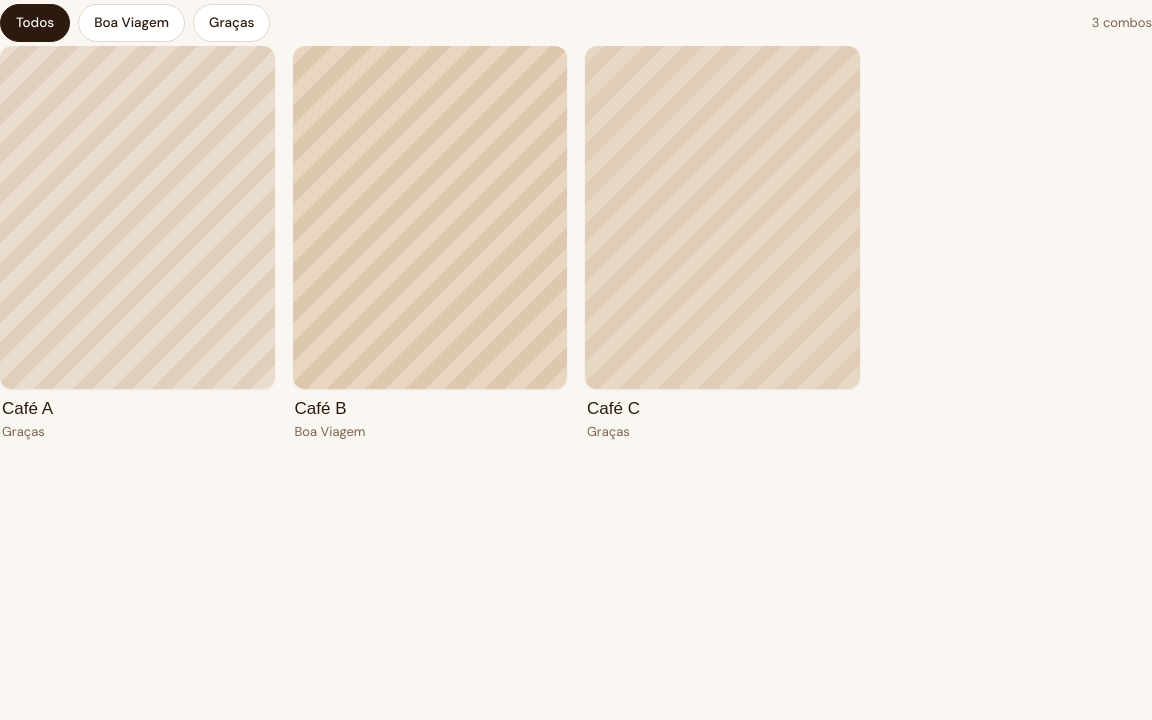
Scenario: FestivalGrade › a arte ampliada passa os combos pelas setas, com volta nas pontas, e devolve o foco ao combo à vista
Step 1. Click the button "Café B Boa Viagem" → (430, 244), box x1=292 y1=46 x2=567 y2=441
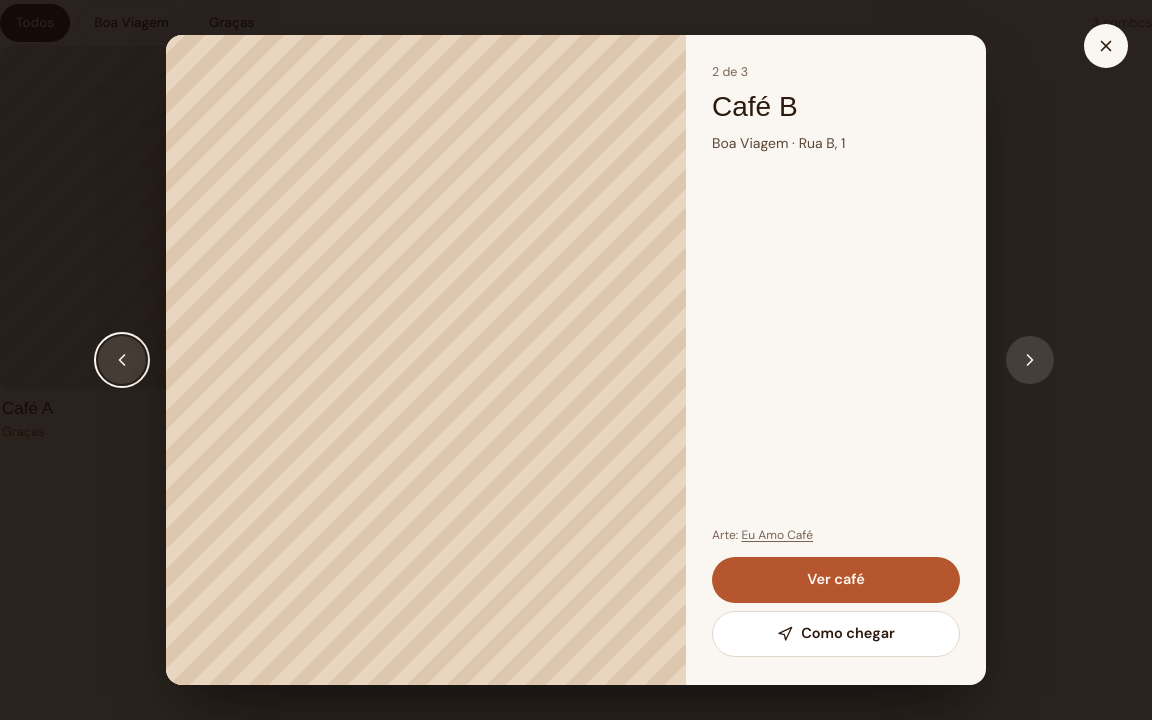
Step 2. Click the button named "Próximo combo" → (1030, 360), box x1=1006 y1=336 x2=1054 y2=384
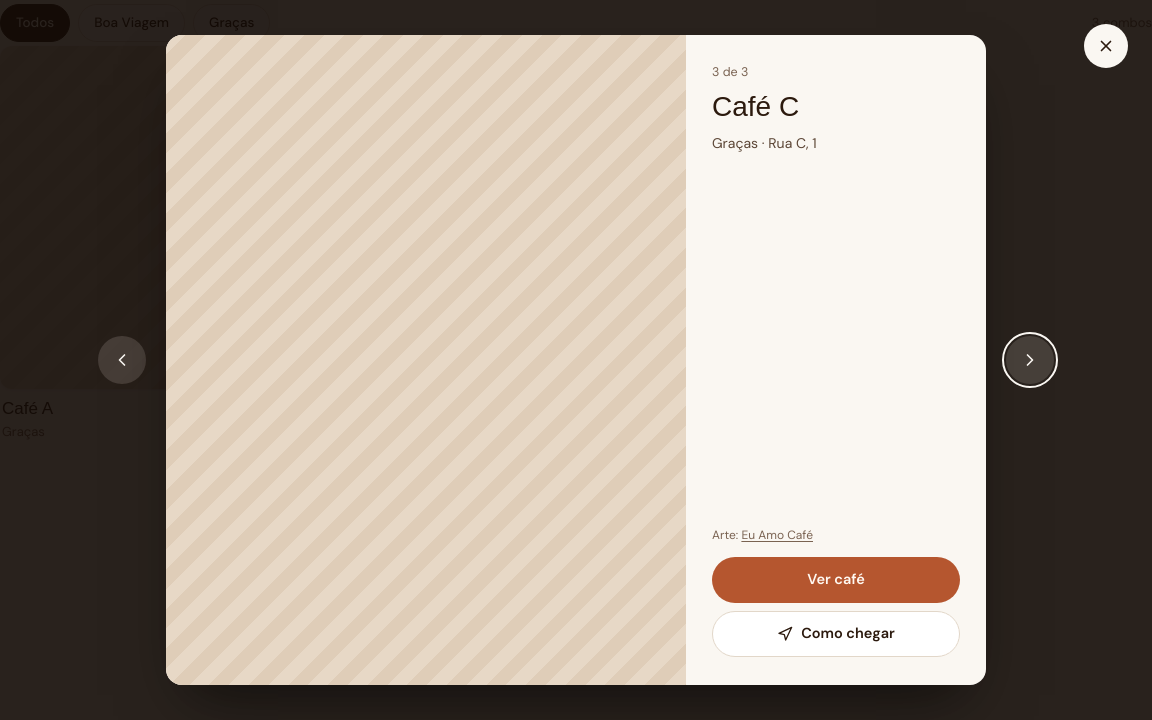
Step 3. Press Arrowright
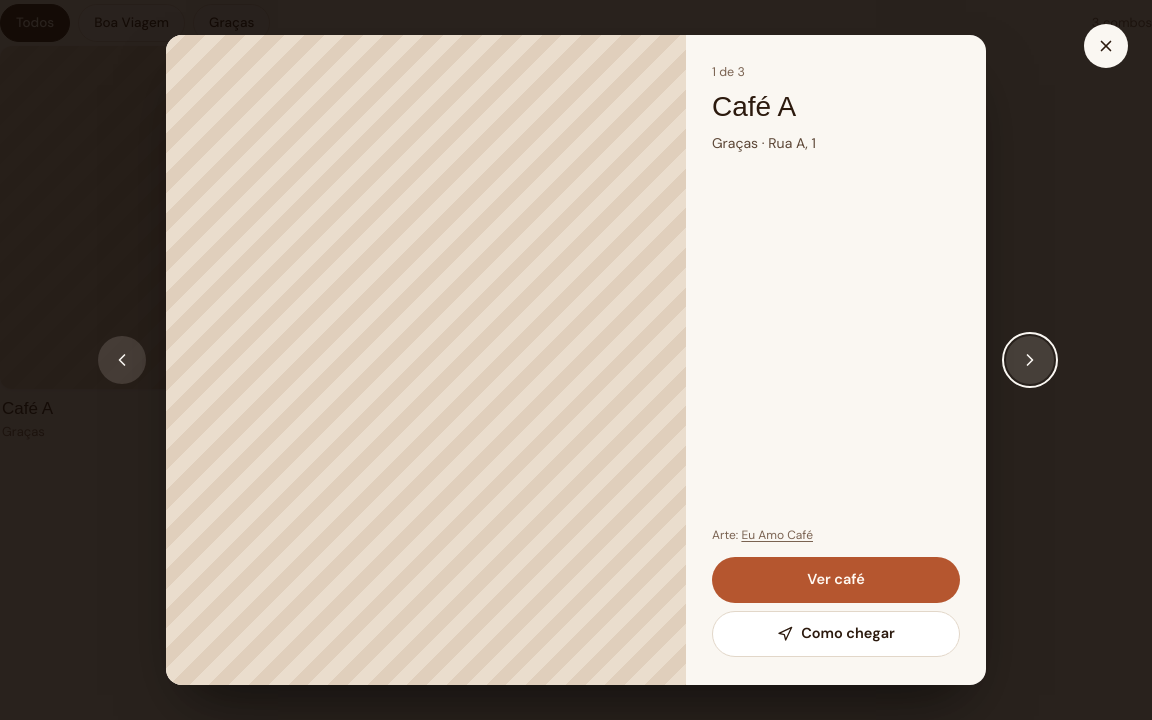
Step 4. Press Arrowleft
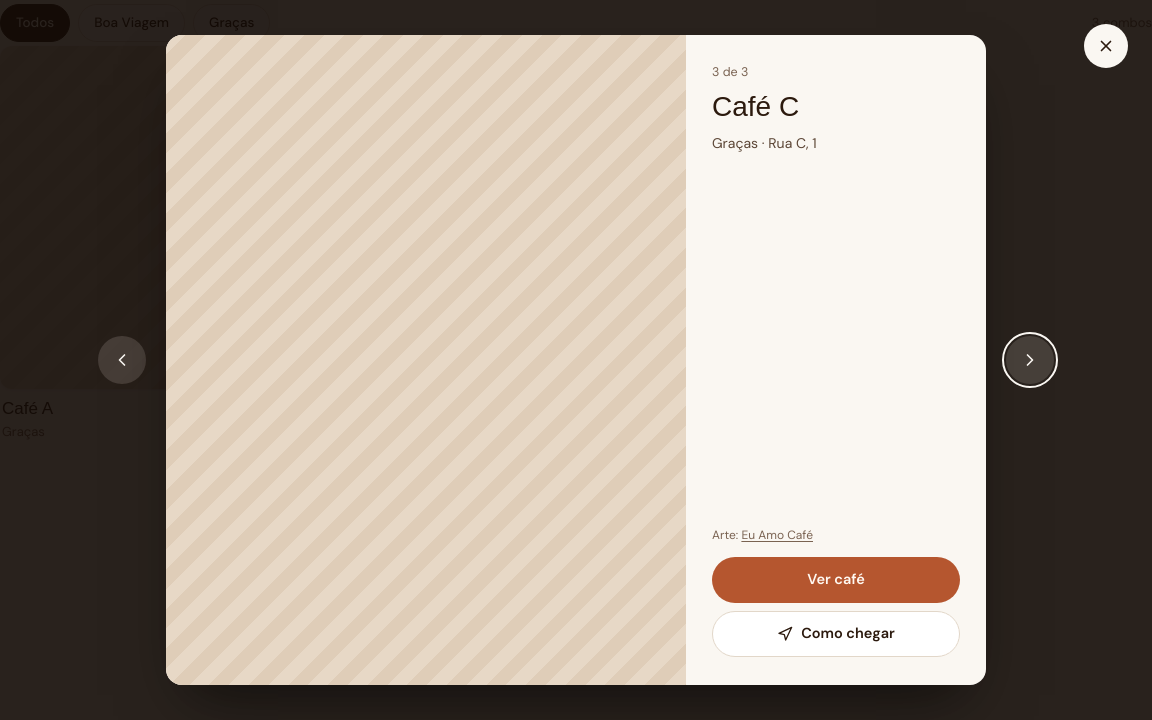
Step 5. Press Escape
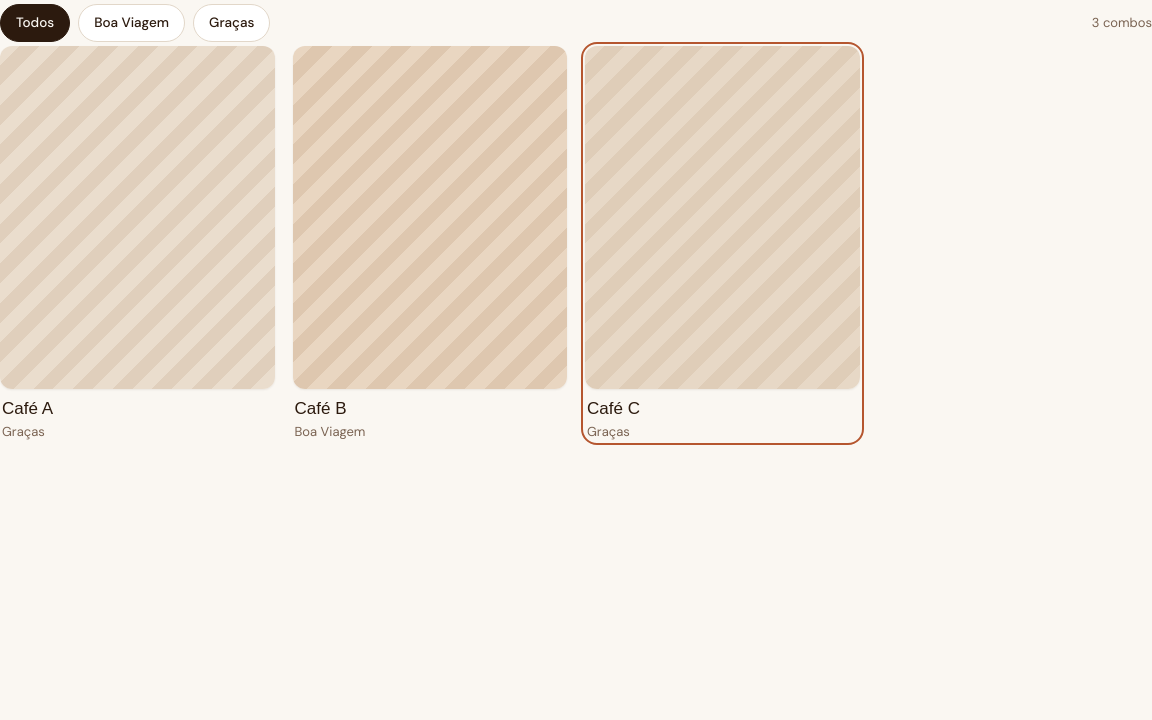
Result: the dialog is gone
